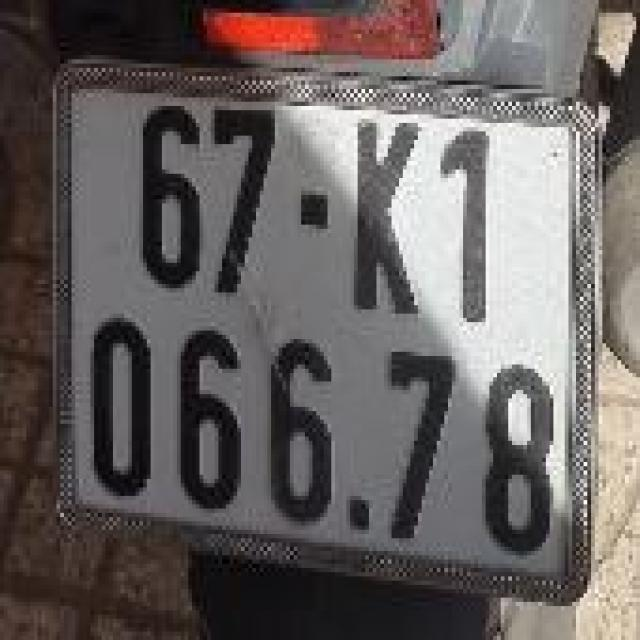0: (73, 303, 160, 519)
1: (444, 112, 512, 337)
6: (164, 312, 254, 528), (119, 93, 212, 301), (265, 326, 341, 538)
7: (207, 91, 290, 303), (374, 344, 454, 556)
8: (469, 352, 559, 568)
K: (343, 104, 429, 333)
